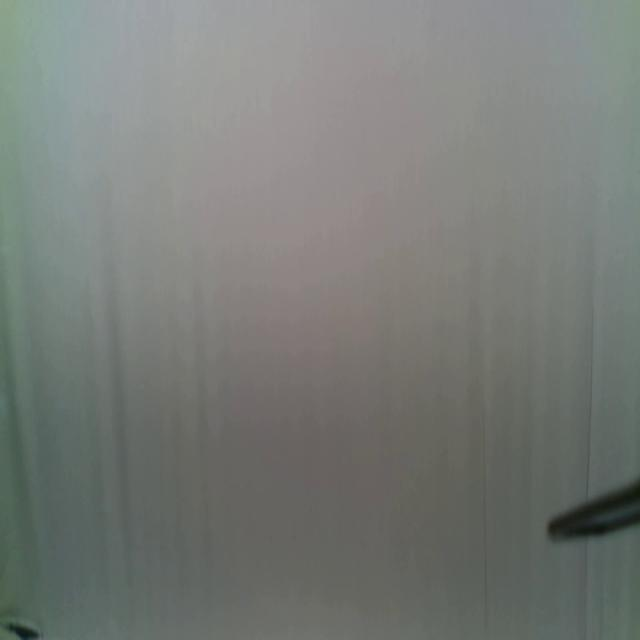crease: (480, 396, 490, 640), (584, 292, 596, 492)
hole: (5, 620, 43, 639)
